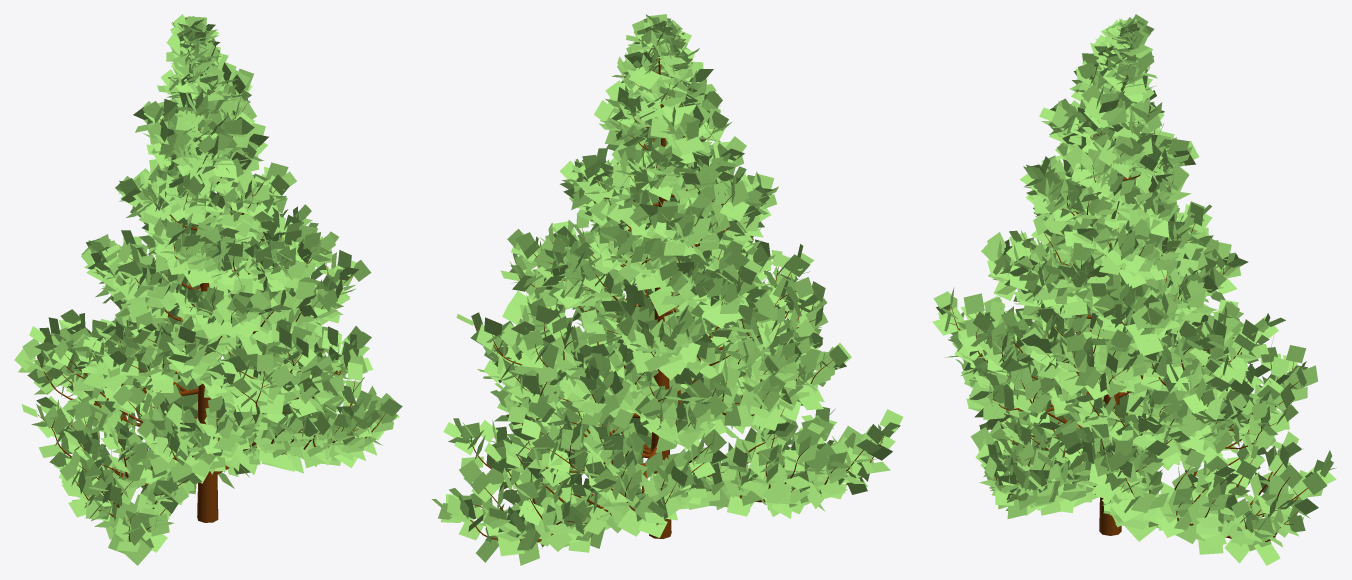
File: Tree1.fbx
3 renders of one model, left to right at view 1: azimuth 30°, elevation 25°; view 2: azimuth 150°, elevation 25°; view 3: azimuth 270°, elevation 25°, orthographic. The views are drawn at different scales.
Visible parts, largest first — view 1: leaves, tree; view 2: leaves, tree; view 3: leaves, tree.
Part boxes in pixels (bbox=[...]): leaves: bbox=[14, 14, 402, 565]; tree: bbox=[37, 82, 385, 541]; leaves: bbox=[431, 14, 903, 565]; tree: bbox=[460, 41, 883, 542]; leaves: bbox=[932, 14, 1336, 565]; tree: bbox=[947, 65, 1321, 541].
Bounding box in the file's own units: 355 × 490 × 354.
